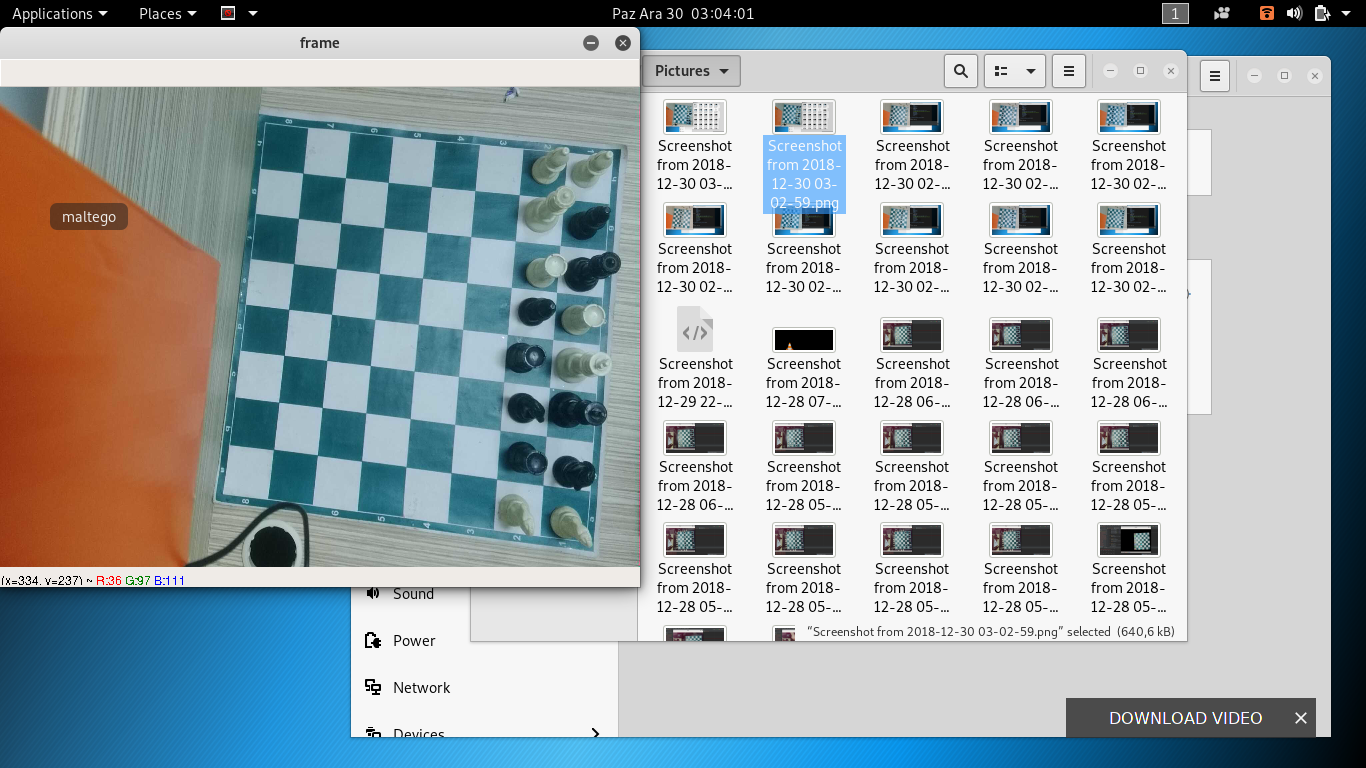BeyazAt: (548, 503, 595, 547), (497, 493, 538, 537)
BeyazFil: (531, 145, 570, 185), (572, 151, 614, 188)
BeyazKale: (524, 251, 568, 287), (559, 302, 605, 334)
BeyazSah: (556, 345, 612, 384)
BeyazVezir: (526, 186, 574, 233)
SiyahAt: (551, 453, 595, 490), (507, 393, 546, 426)
SiyahFil: (571, 205, 612, 240), (518, 295, 557, 326)
SiyahKale: (506, 441, 549, 479), (506, 342, 547, 373)
SiyahSah: (549, 391, 607, 427)
SiyahVezir: (565, 250, 621, 291)
